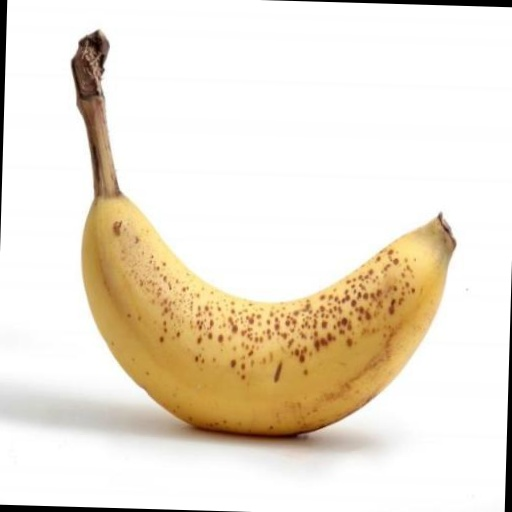fruit: (411, 118, 487, 403)
